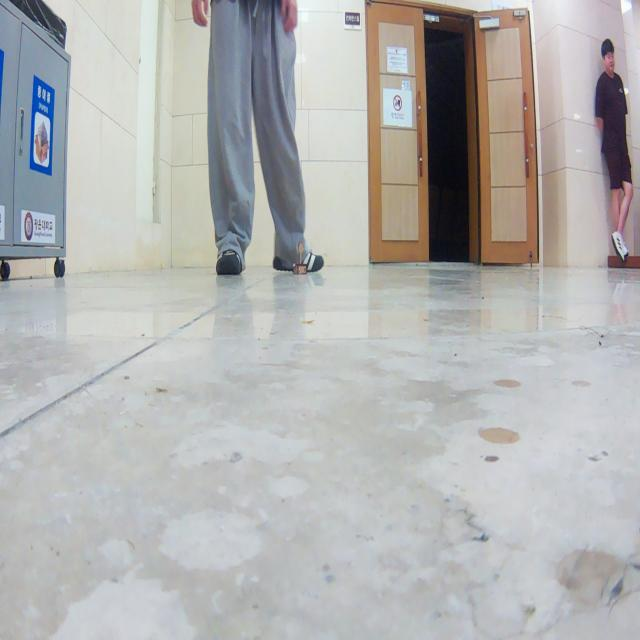target: (293, 242, 307, 275)
